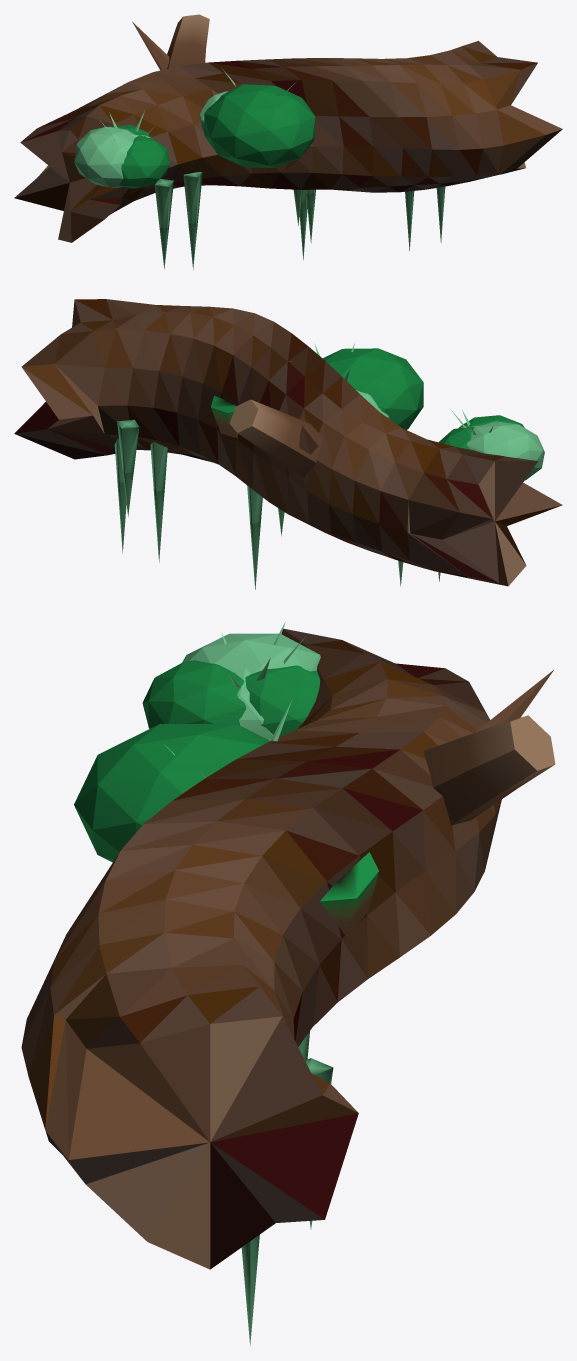
File: pohon_tumbang_bridge_rainforest_512130.glb
3 renders of one model, top to bottom at view 1: azimuth 30°, elevation 25°; view 2: azimuth 150°, elevation 25°; view 3: azimuth 270°, elevation 25°, orthographic. The views are drawn at different scales.
Parts seen in each view (by area): view 1: Batang_Melintang_Sungai; view 2: Batang_Melintang_Sungai; view 3: Batang_Melintang_Sungai.
Part boxes in pixels (bbox=[...]): Batang_Melintang_Sungai: bbox=[14, 14, 562, 269]; Batang_Melintang_Sungai: bbox=[14, 299, 562, 589]; Batang_Melintang_Sungai: bbox=[21, 621, 555, 1345].
Size of the model in its own units: 5.14 by 2.45 by 2.62.
